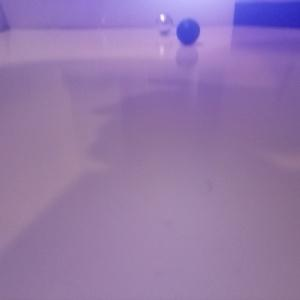alive_ball: (153, 12, 174, 34)
dead_ball: (175, 17, 199, 43)
